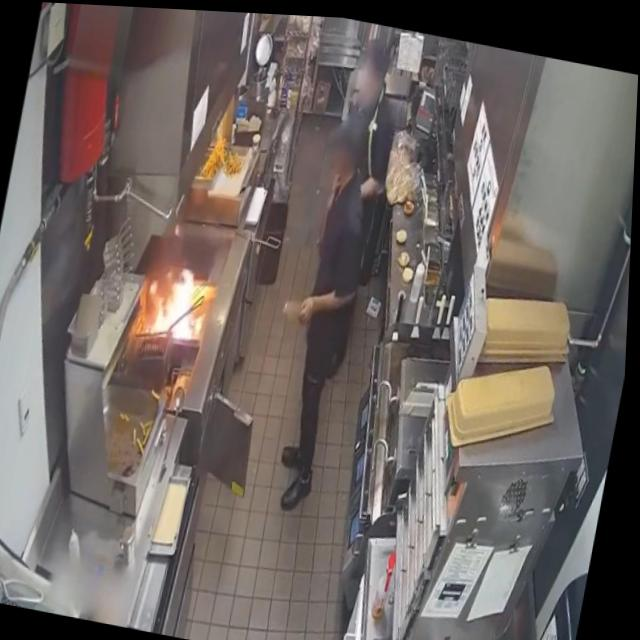fire: (141, 251, 218, 352)
